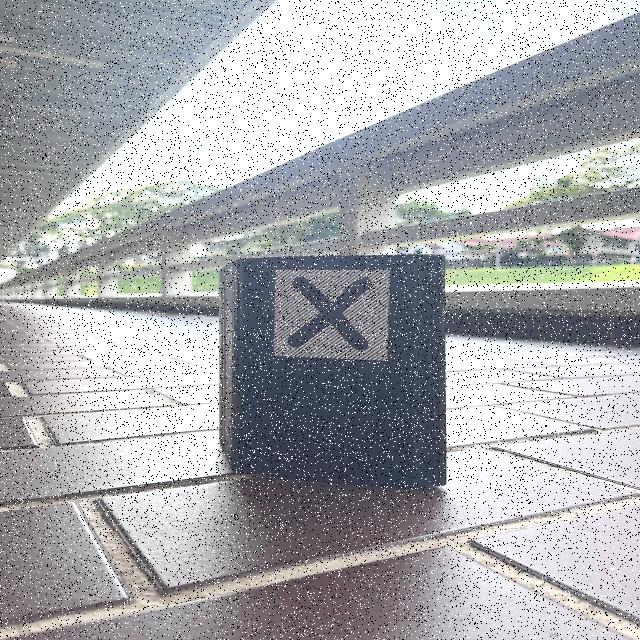X_id33: (274, 269, 391, 360)
